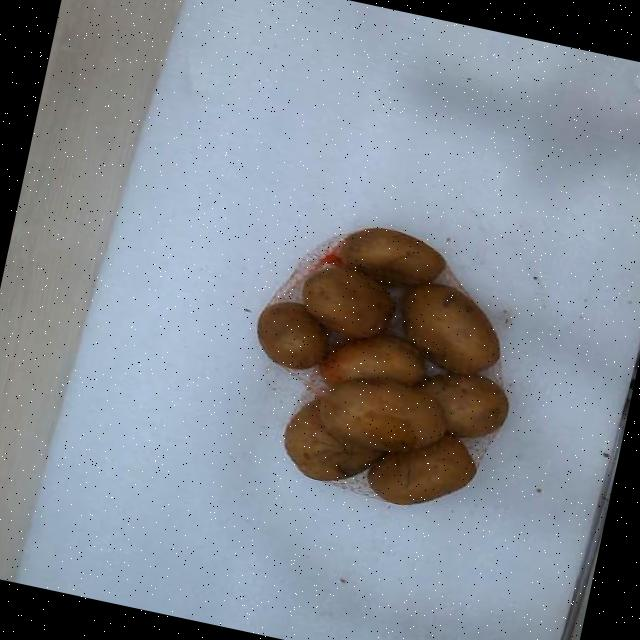potato: (318, 378, 445, 451), (401, 282, 499, 373), (284, 398, 382, 479), (368, 433, 475, 504), (302, 266, 393, 337), (338, 227, 444, 285), (415, 374, 508, 436), (319, 333, 424, 385), (257, 302, 327, 368)
